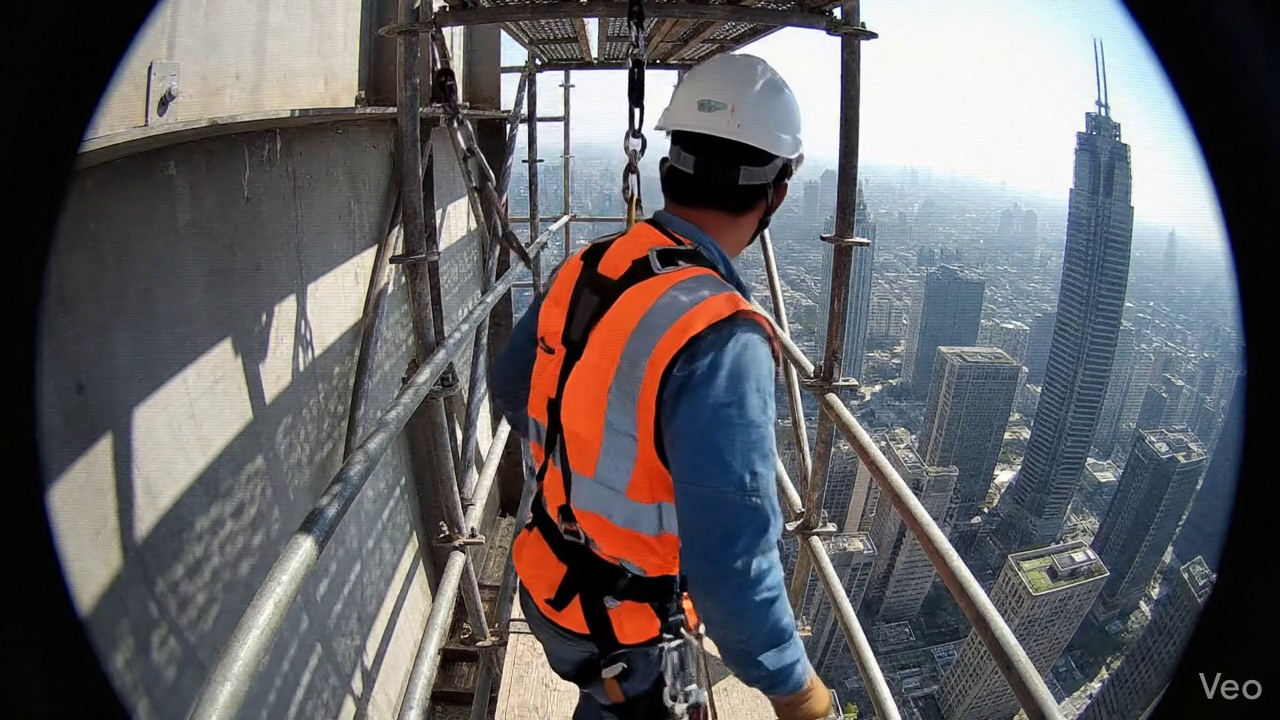person: (496, 53, 837, 719)
